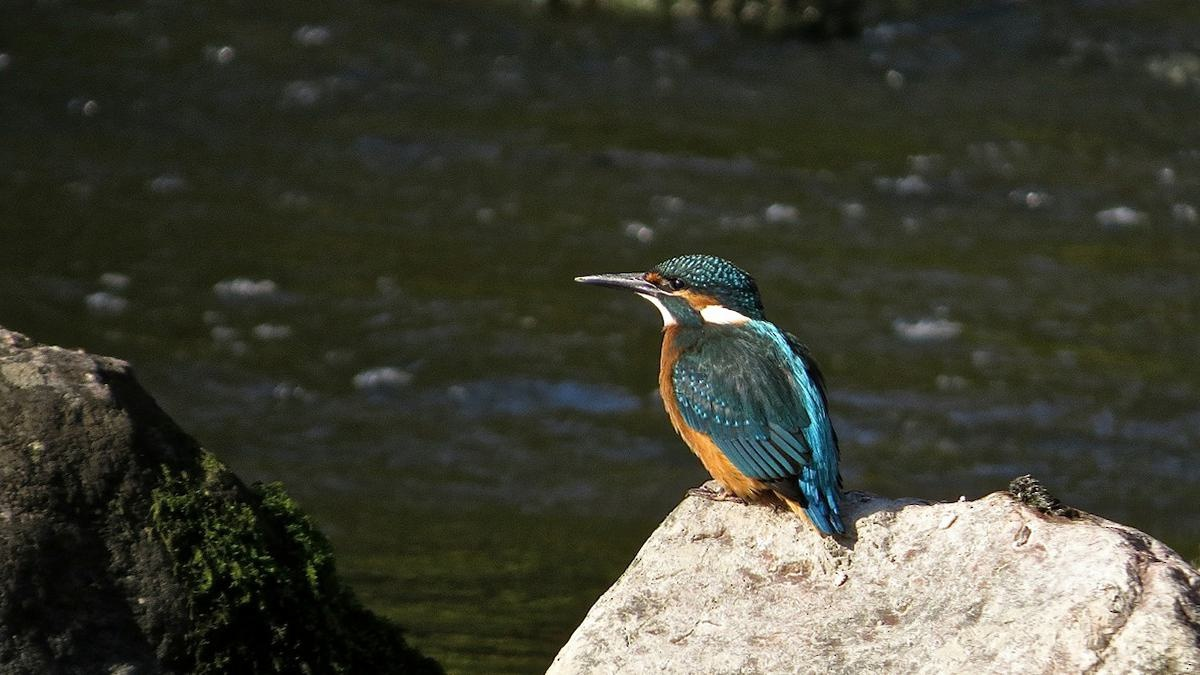kingfisher: (569, 253, 873, 537)
